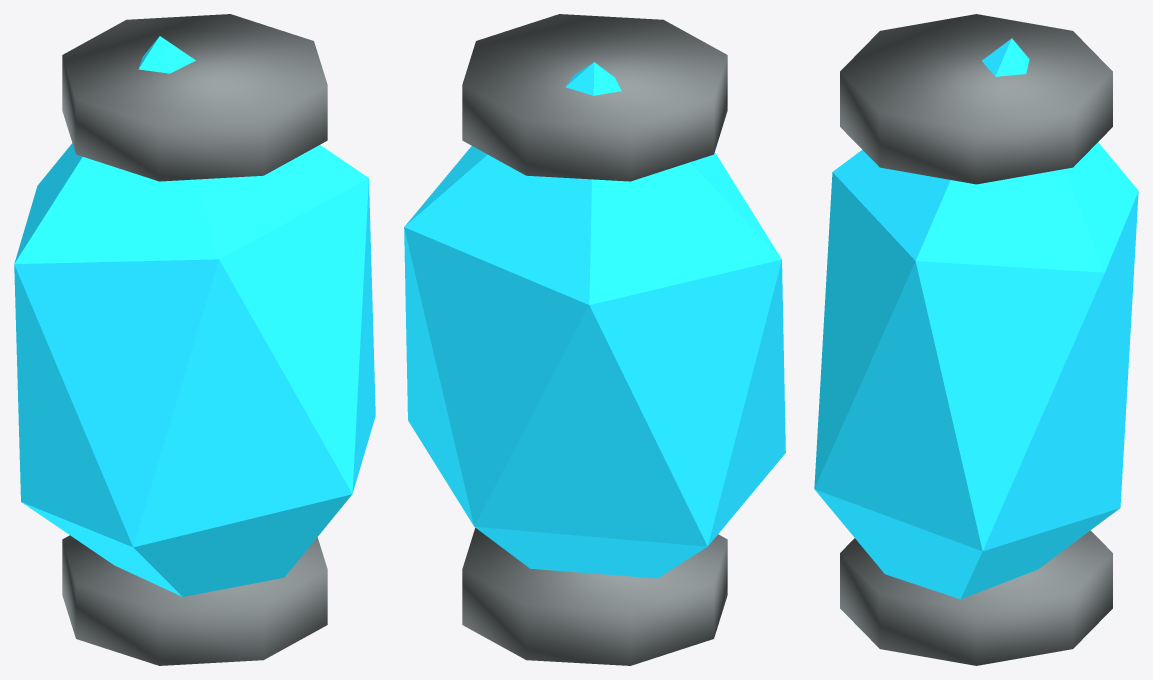
File: shield.glb
3 views of the same model, side by side, from view 1: azimuth 30°, elevation 25°; view 2: azimuth 150°, elevation 25°; view 3: azimuth 270°, elevation 25° (orthographic).
Visible parts, largest first — view 1: shield; view 2: shield; view 3: shield.
Boxes of the visible parts, box(x1,y1,x2,y2) form: shield: box(14, 14, 375, 665); shield: box(404, 14, 785, 665); shield: box(814, 14, 1138, 665).
Size of the model in its own units: 0.5562 by 0.8533 by 0.4273.
